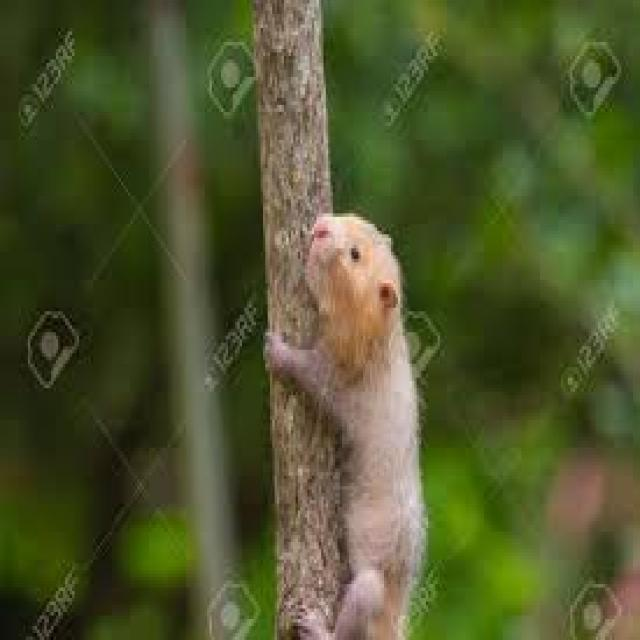rat: (261, 210, 428, 636)
